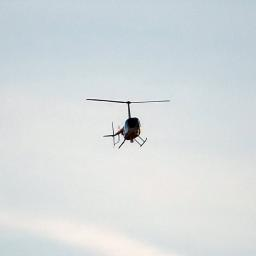helicopter: (85, 96, 173, 153)
